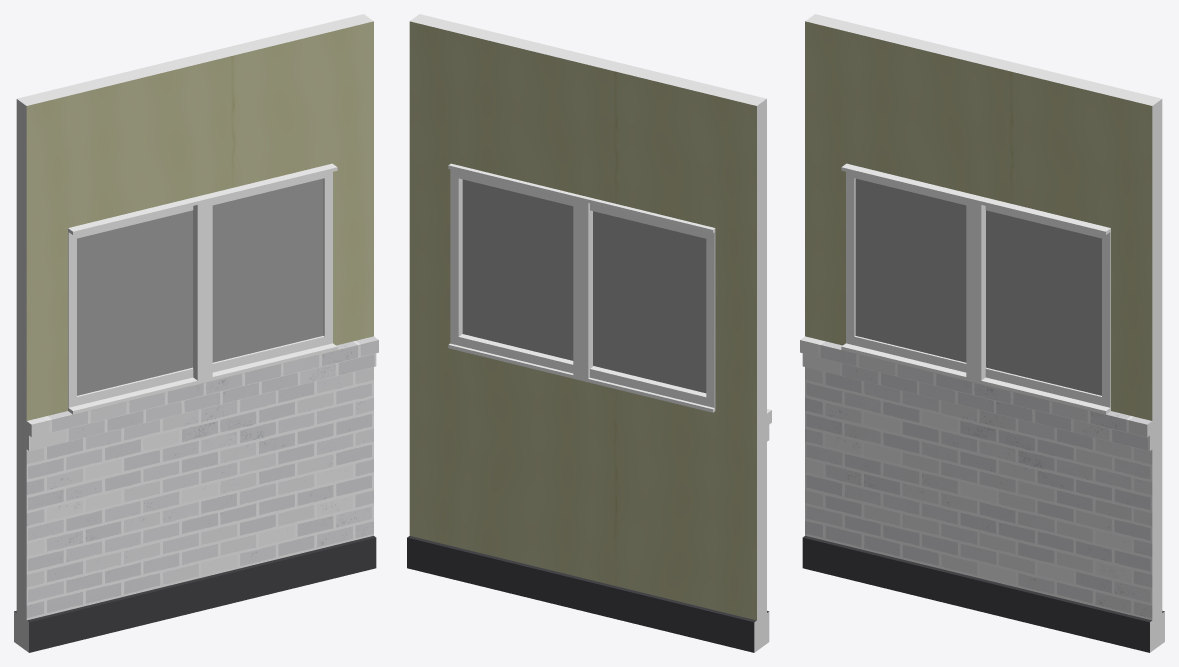
Rendered from SM_Buildings_WallWindow_2x3_02.fbx.
3 renders of one model, left to right at view 1: azimuth 30°, elevation 25°; view 2: azimuth 150°, elevation 25°; view 3: azimuth 330°, elevation 25°, orthographic.
Visible parts, largest first — view 1: SM_Buildings_WallWindow_2x3_02, SM_Buildings_WallWindow_2x3_02_Glass; view 2: SM_Buildings_WallWindow_2x3_02, SM_Buildings_WallWindow_2x3_02_Glass; view 3: SM_Buildings_WallWindow_2x3_02, SM_Buildings_WallWindow_2x3_02_Glass.
Boxes of the visible parts, bbox=[...] form: SM_Buildings_WallWindow_2x3_02: bbox=[14, 14, 378, 652]; SM_Buildings_WallWindow_2x3_02_Glass: bbox=[77, 178, 323, 395]; SM_Buildings_WallWindow_2x3_02: bbox=[407, 14, 771, 652]; SM_Buildings_WallWindow_2x3_02_Glass: bbox=[462, 179, 706, 393]; SM_Buildings_WallWindow_2x3_02: bbox=[800, 14, 1164, 652]; SM_Buildings_WallWindow_2x3_02_Glass: bbox=[855, 178, 1101, 395].
Size of the model in its own units: 200 by 300 by 17.5.
2 materials, 1 textured.
